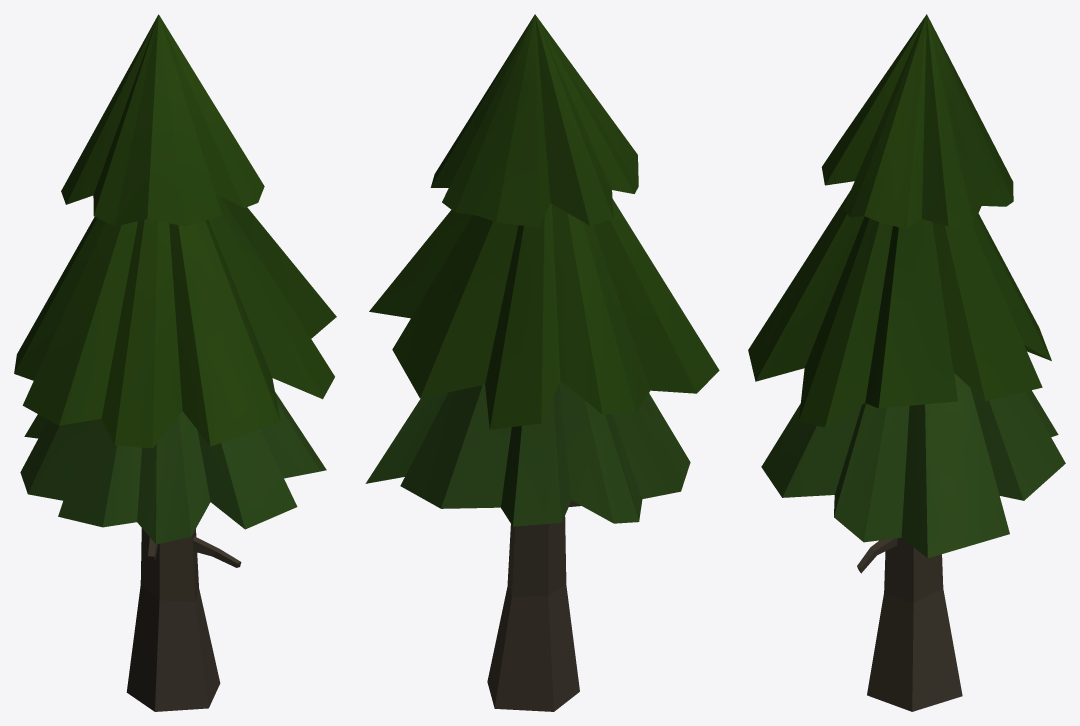
Rendered from Forest_A_FirTree_21.fbx.
3 views of the same model, side by side, from view 1: azimuth 30°, elevation 25°; view 2: azimuth 150°, elevation 25°; view 3: azimuth 270°, elevation 25° (orthographic). The views are drawn at different scales.
Parts seen in each view (by area): view 1: Forest_A_FirTree_21; view 2: Forest_A_FirTree_21; view 3: Forest_A_FirTree_21.
Boxes of the visible parts, left/top/right/bottom form: Forest_A_FirTree_21: left=14, top=14, right=336, bottom=711; Forest_A_FirTree_21: left=365, top=14, right=719, bottom=711; Forest_A_FirTree_21: left=748, top=14, right=1065, bottom=711.
Size of the model in its own units: 162 by 348 by 149.
